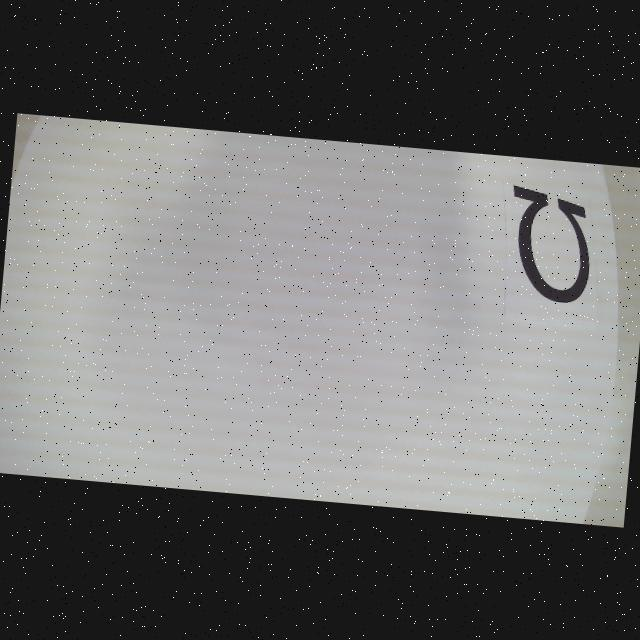OMEGA: (503, 184, 596, 305)
